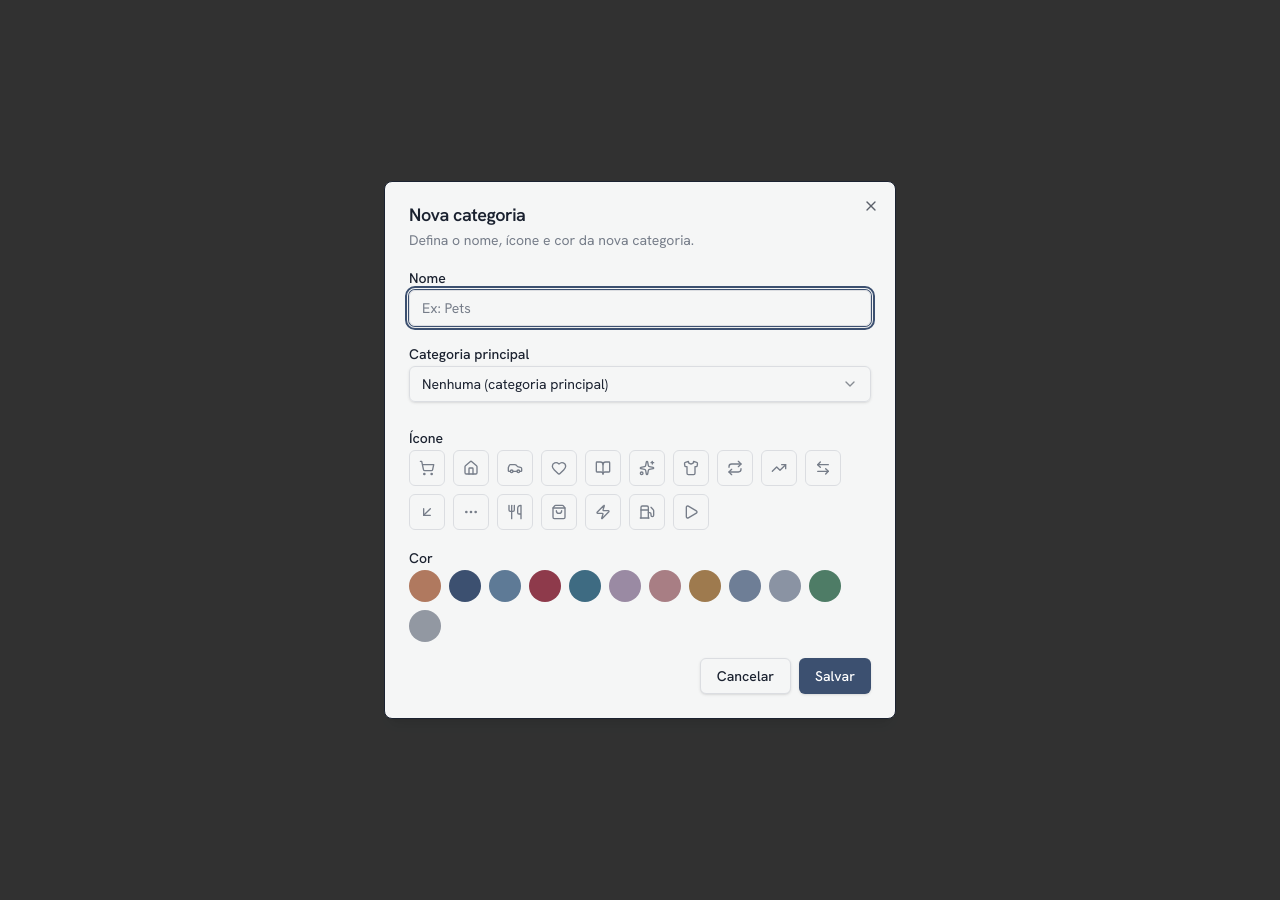
CategoryForm › displays a server error when creation fails
The image size is (1280, 900).
Type "Pets" into the field labelled "Nome" at x=640, y=308, box left=409, top=290, right=871, bottom=326
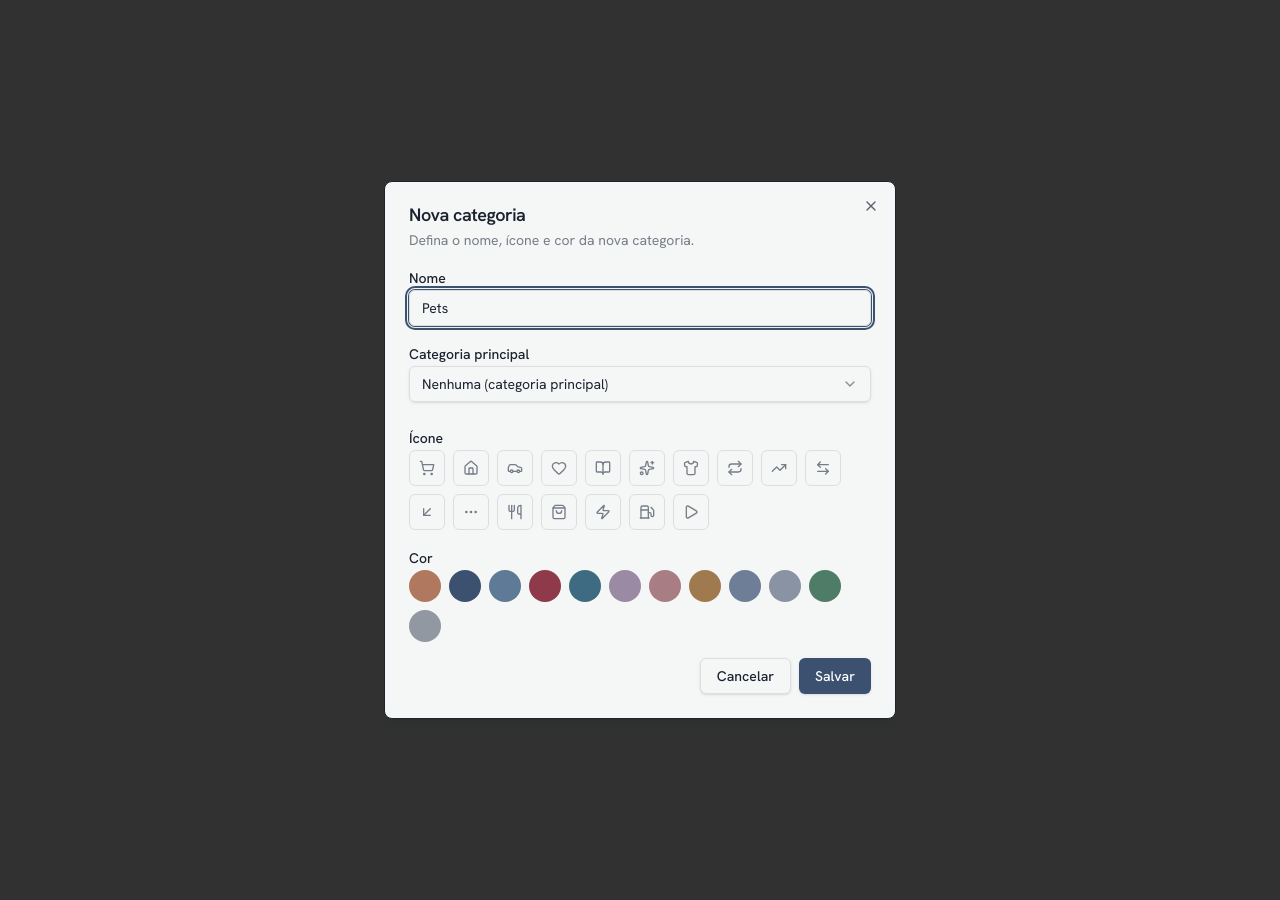
Click the button "Salvar" at x=835, y=676, box left=799, top=658, right=871, bottom=694
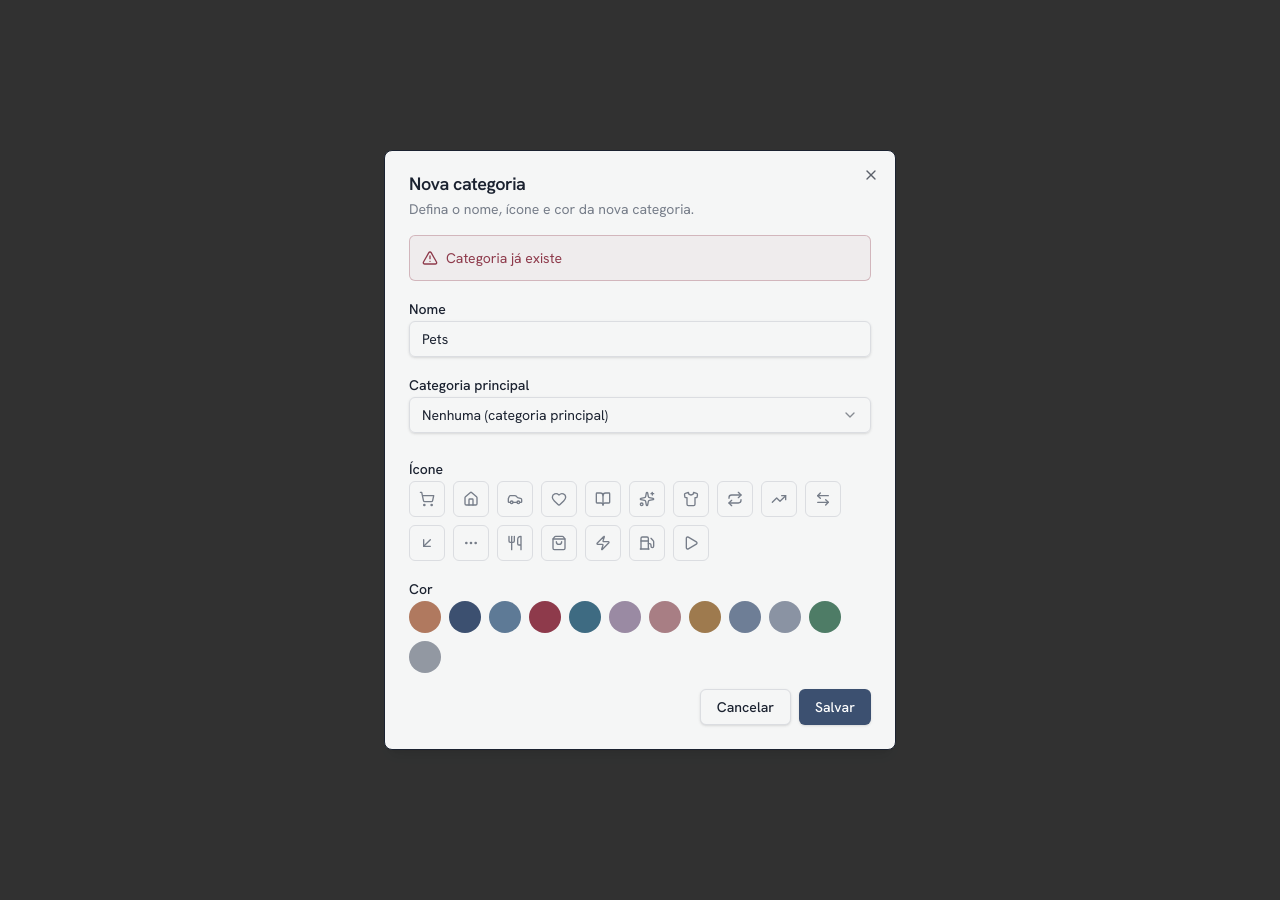
Expected: the text "Categoria já existe" is shown, left=446, top=248, right=562, bottom=268
